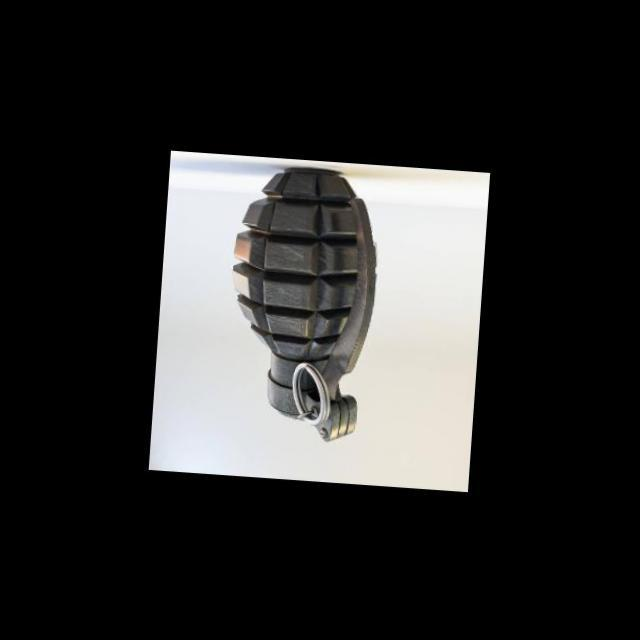grenade: (214, 153, 398, 439)
